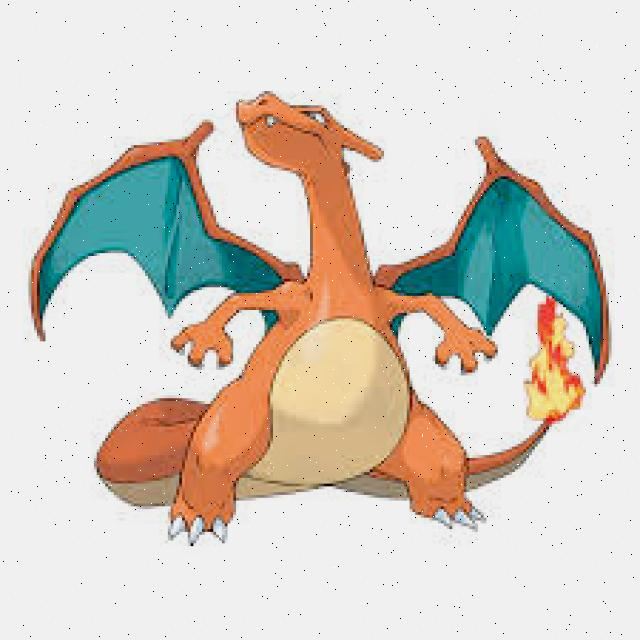charizard: (32, 90, 611, 547)
